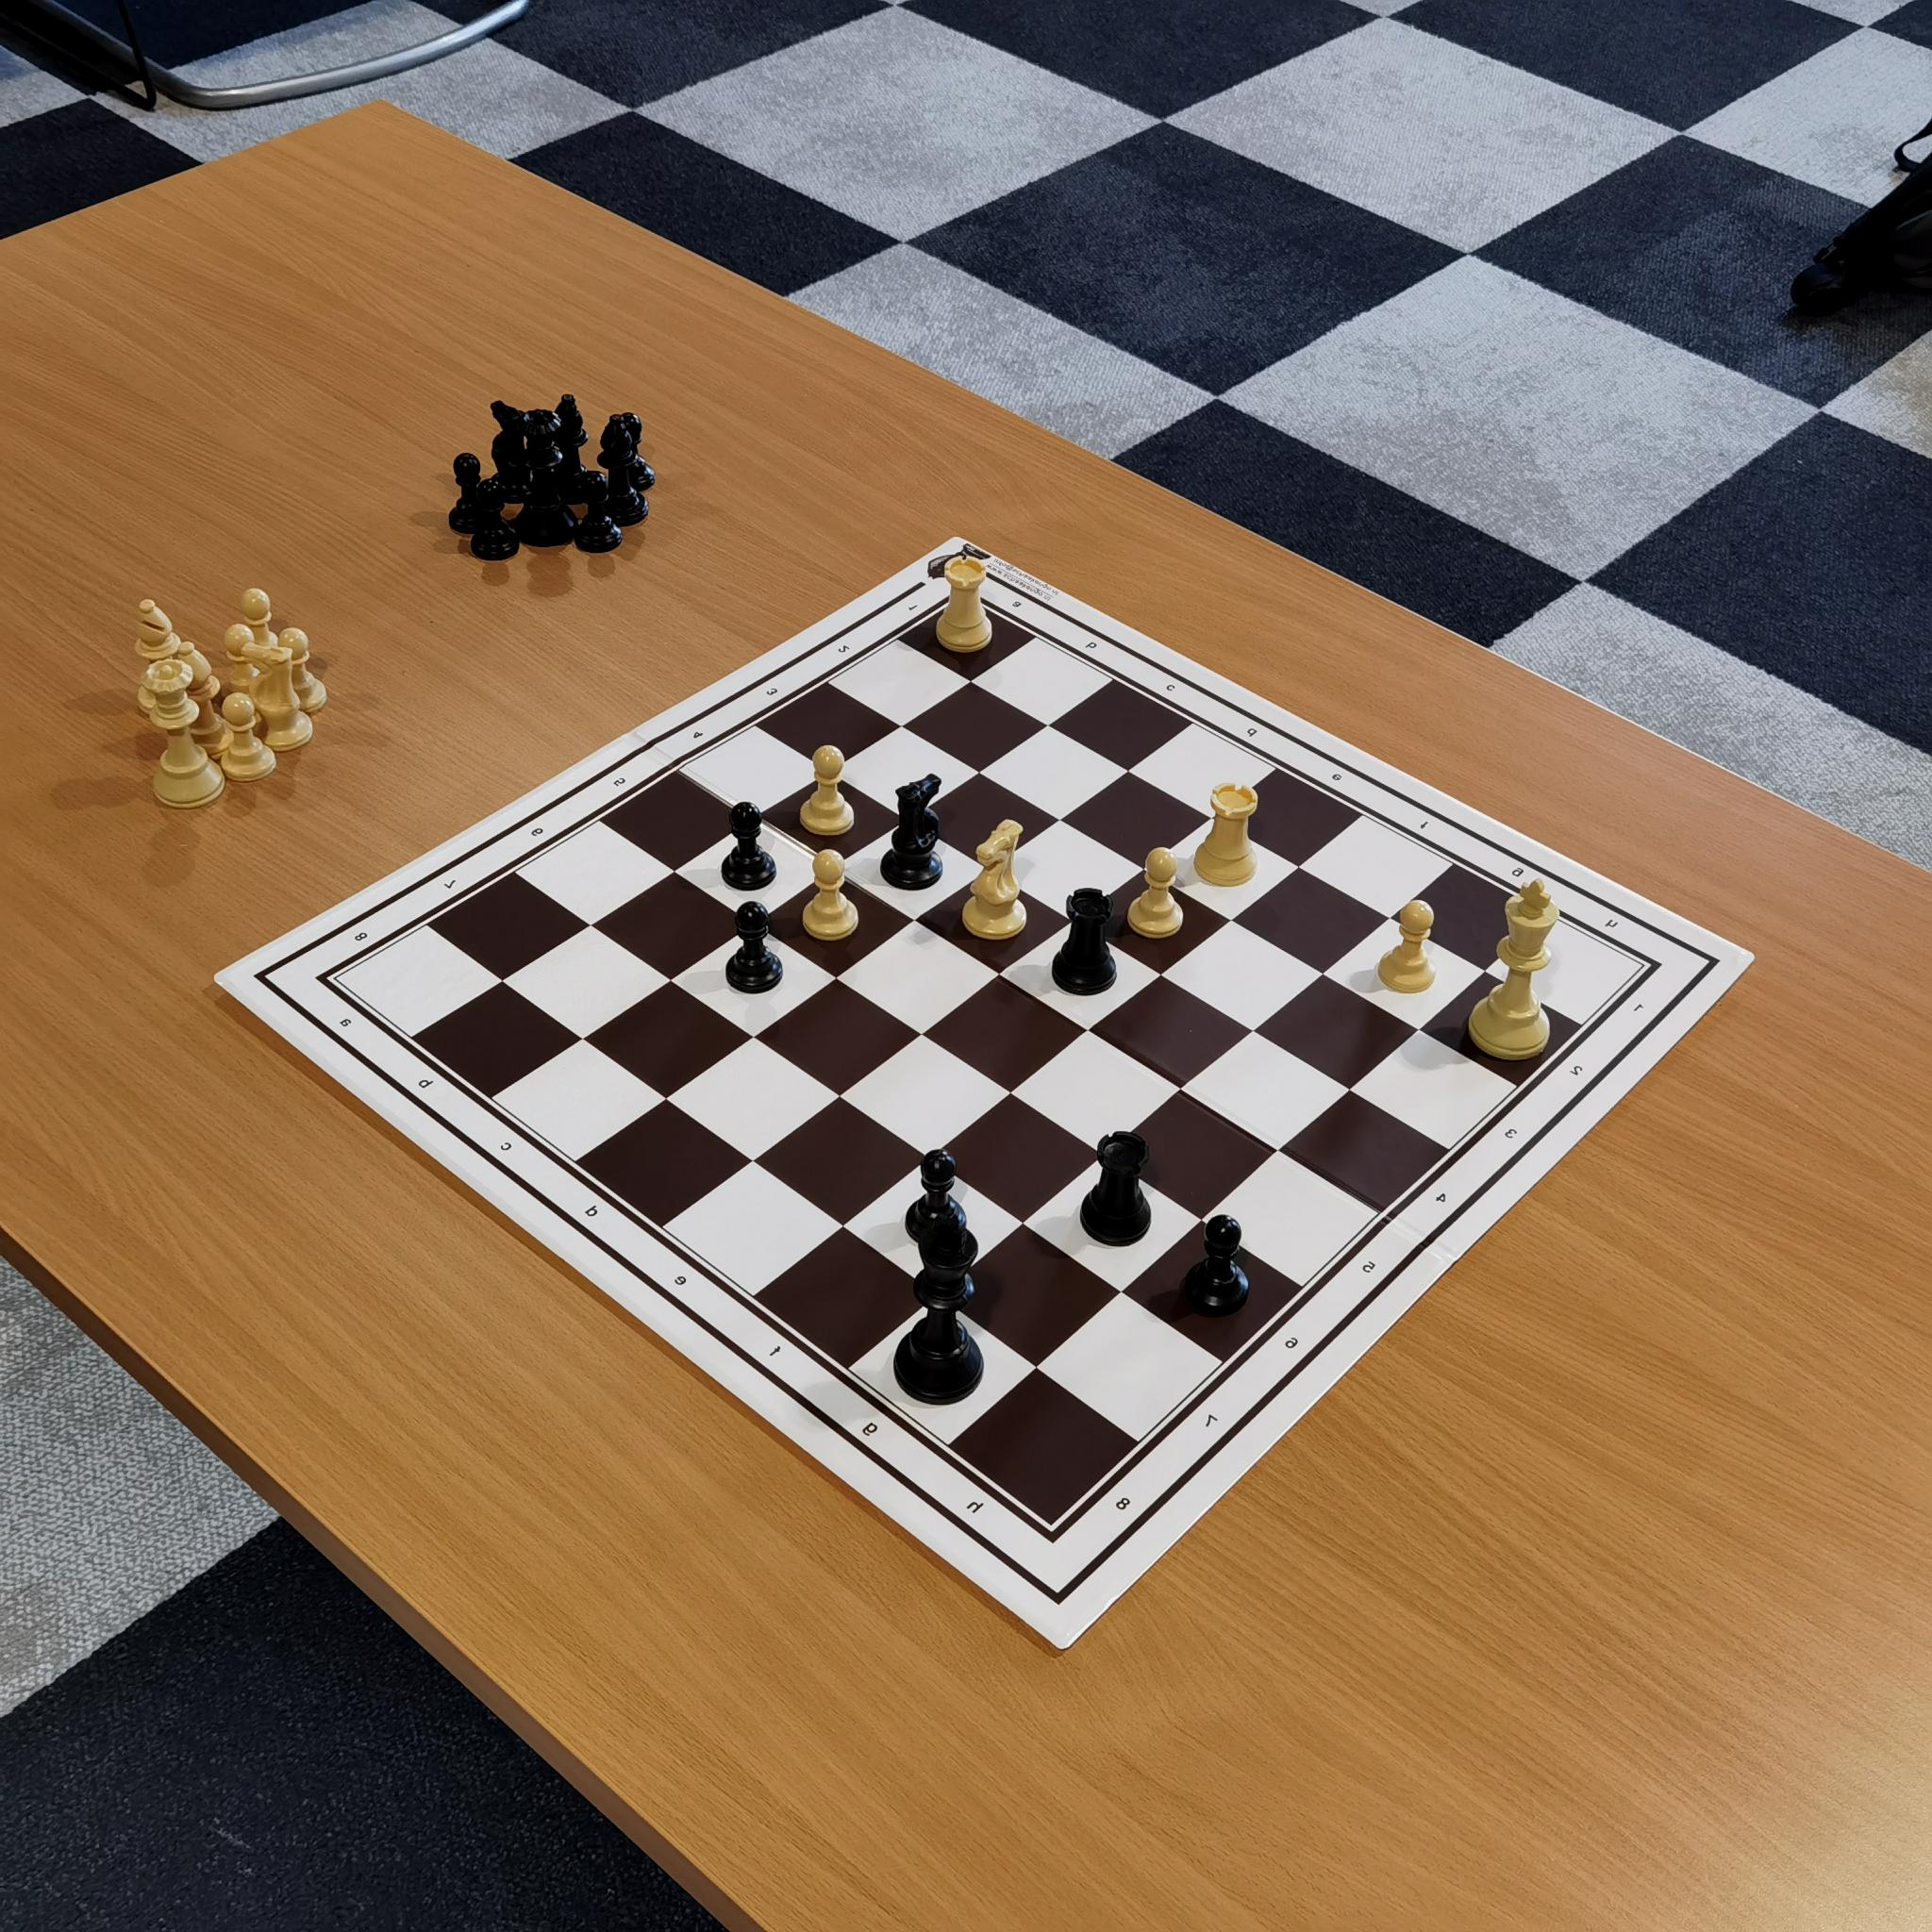corners: (303, 957, 357, 998), (1028, 1507, 1077, 1552), (1615, 948, 1668, 985), (941, 571, 987, 614)
eight: (1100, 1483, 1143, 1523), (341, 918, 377, 952)
one: (1617, 991, 1651, 1030), (897, 591, 929, 625)
